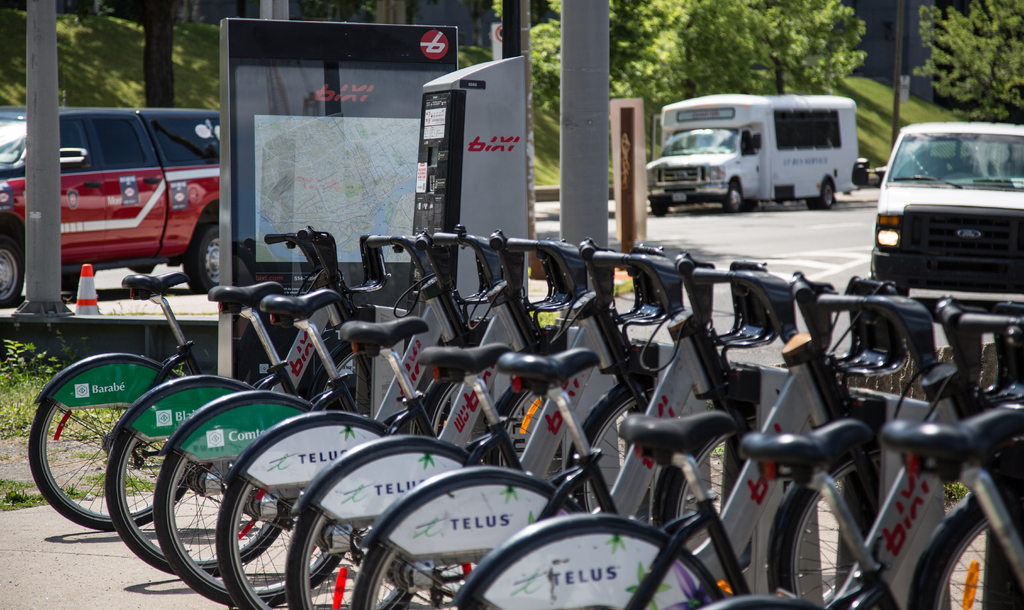car: (0, 106, 219, 306), (642, 75, 867, 222), (867, 103, 1024, 296)
